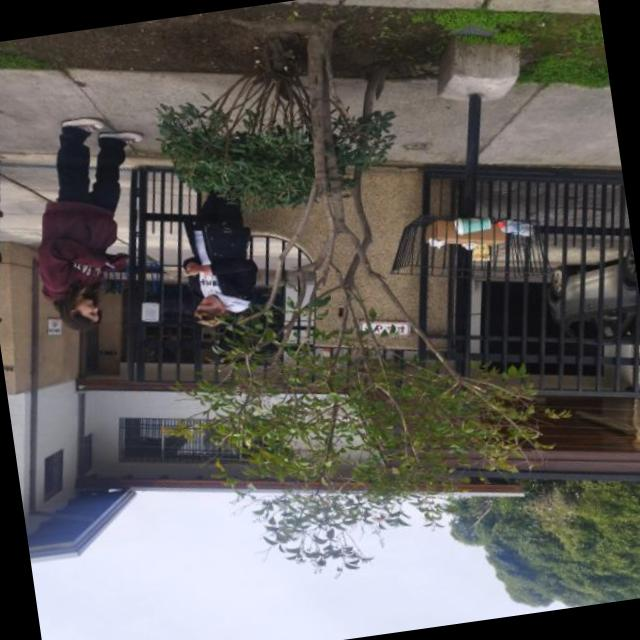person: (0, 89, 193, 372), (140, 156, 293, 354)
